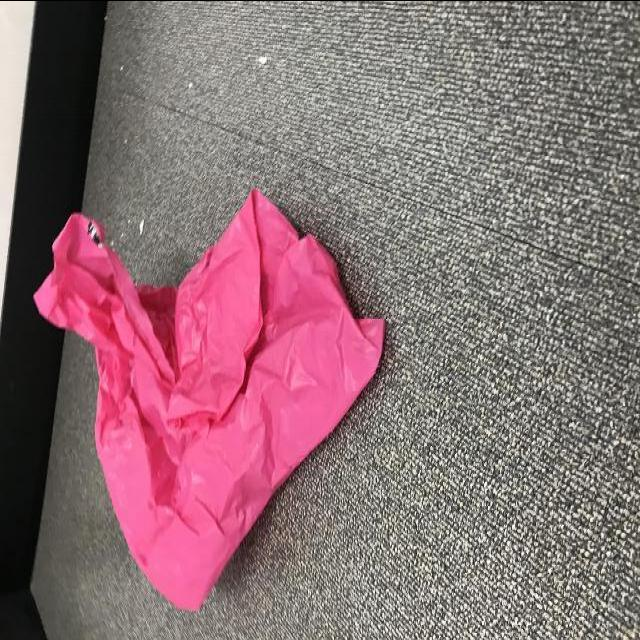plastic bag: (32, 178, 394, 614)
